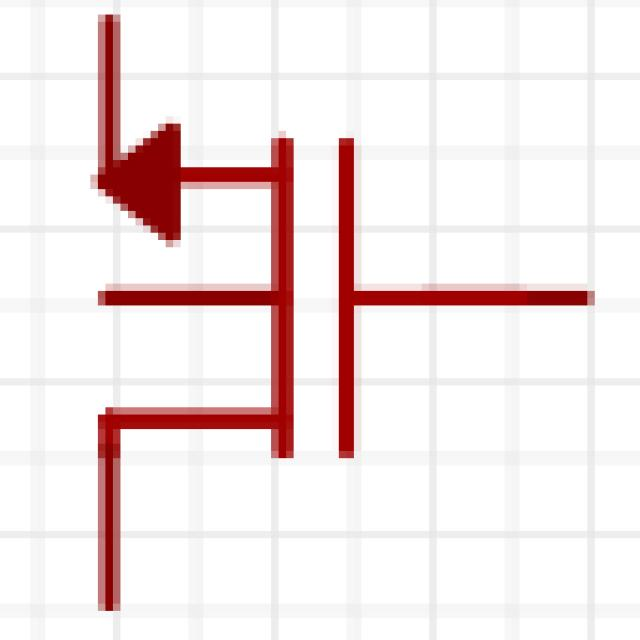nmos: (62, 21, 586, 570)
